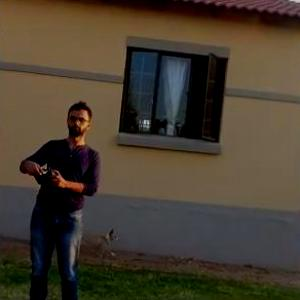follow: (11, 93, 106, 299)
null: (81, 220, 126, 262)
